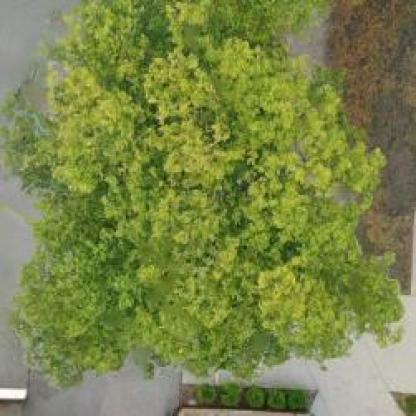Deciduous Tree: (2, 3, 414, 378)
